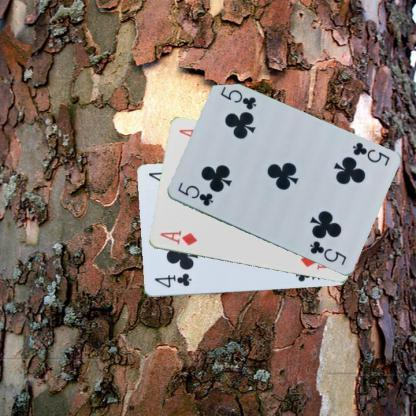4c: (152, 271, 192, 289)
5c: (350, 140, 390, 168), (175, 180, 214, 208)
Ad: (157, 228, 198, 248)
